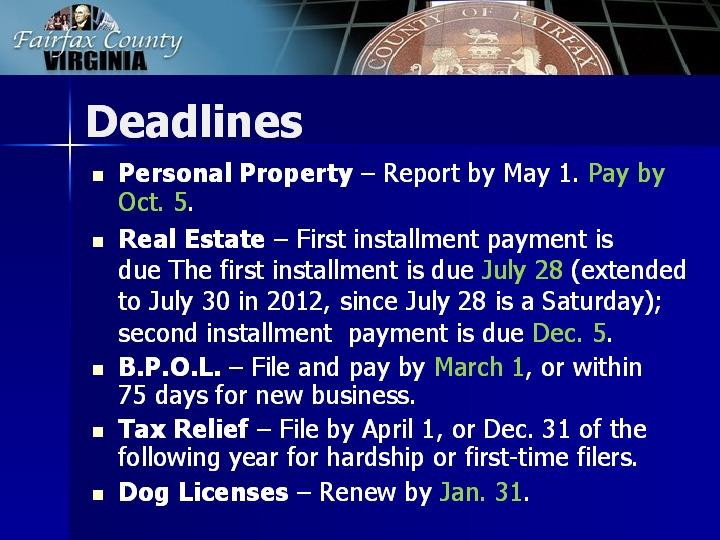paragraph: (81, 149, 695, 527)
subtitle: (80, 96, 320, 145)
title: (10, 24, 204, 77)
